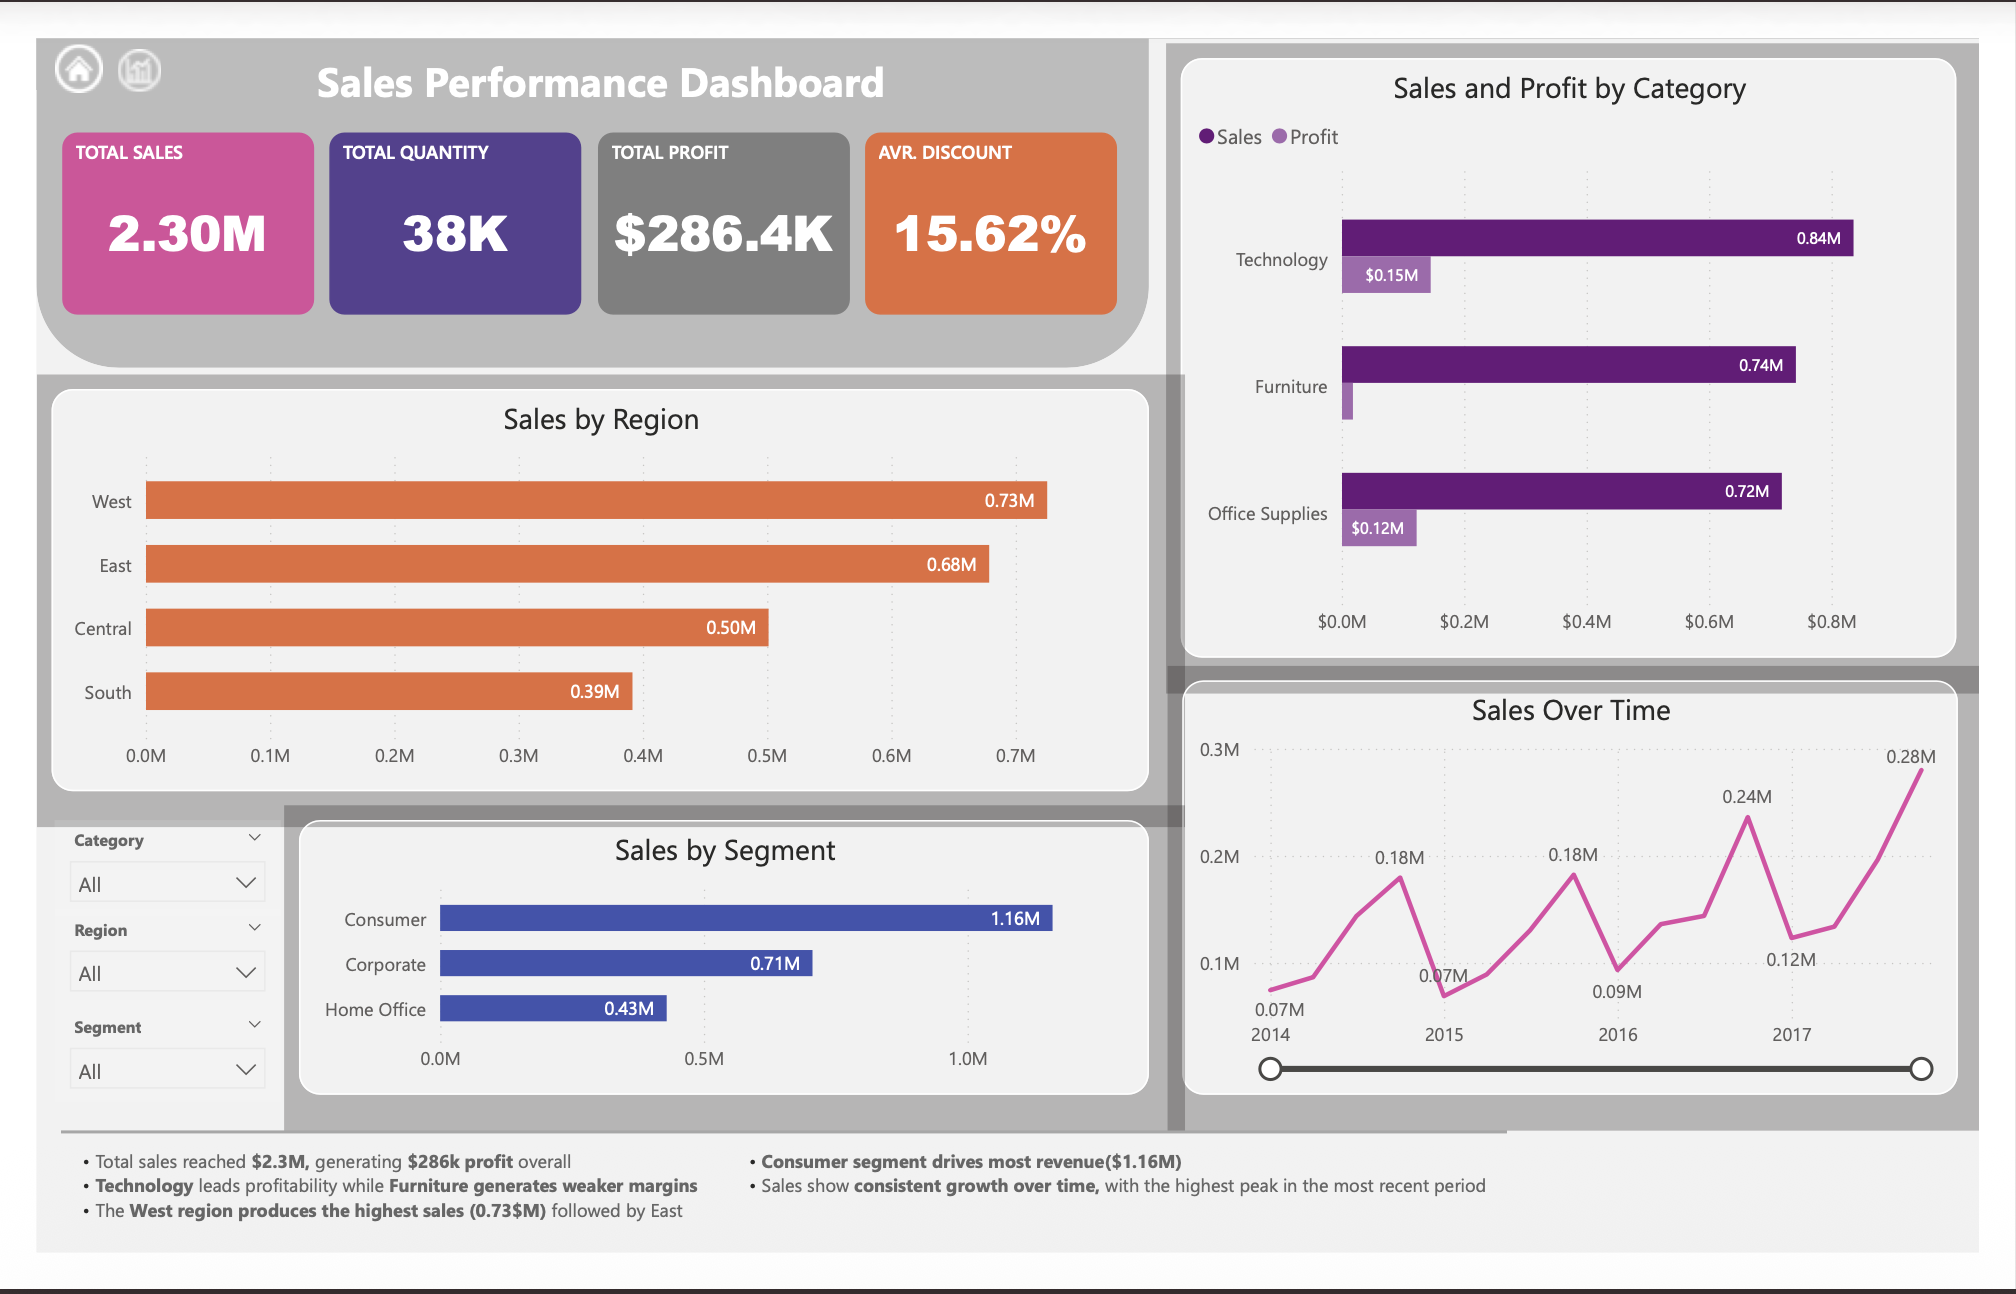

The dashboard page shown, as its layout file describes it:
{"tool":"powerbi","page":{"name":"Executive Overview","canvas":[1280,800],"ordinal":0},"visuals":[{"type":"shape","box":[0,0,733.3,216.7],"z":0},{"type":"clusteredBarChart","title":"Sales and Profit by Category","fields":{"Y":["Sum(Orders.Sales)","Sum(Orders.Profit)"],"Category":["Orders.Category"]},"box":[754.2,13.3,510.8,394.2],"z":1000},{"type":"card","title":"TOTAL SALES","fields":{"Values":["Sum(Orders.Sales)"]},"box":[16.7,61.7,165.8,120],"z":1000,"group":"g1"},{"type":"card","title":"TOTAL QUANTITY","fields":{"Values":["Sum(Orders.Quantity)"]},"box":[193.1,61.7,165.8,120],"z":2000,"group":"g1"},{"type":"clusteredBarChart","title":"Sales by Region","fields":{"Y":["Sum(Orders.Sales)"],"Category":["Orders.Region"]},"box":[10,230.8,723.3,265],"z":2000},{"type":"card","title":"TOTAL PROFIT","fields":{"Values":["Sum(Orders.Profit)"]},"box":[369.5,61.7,165.8,120],"z":3000,"group":"g1"},{"type":"lineChart","title":"Sales Over Time","fields":{"Y":["Sum(Orders.Sales)"],"Category":["Orders.Order Date.Variation.Date Hierarchy.Year","Orders.Order Date.Variation.Date Hierarchy.Quarter"]},"box":[755,423.3,510.8,272.5],"z":3000},{"type":"card","title":"AVR. DISCOUNT","fields":{"Values":["Avg(Orders.Discount)"]},"box":[545.9,61.7,165.8,120],"z":4000,"group":"g1"},{"type":"clusteredBarChart","title":"Sales by Segment","fields":{"Y":["Sum(Orders.Sales)"],"Category":["Orders.Segment"]},"box":[172.5,515,560.8,180.8],"z":4000},{"type":"slicer","fields":{"Values":["Orders.Category"]},"box":[12.2,515,149.2,63.3],"z":5000},{"type":"slicer","fields":{"Values":["Orders.Region"]},"box":[12.2,574.2,149.2,63.3],"z":6000},{"type":"slicer","fields":{"Values":["Orders.Segment"]},"box":[12.2,637.5,149.2,63.3],"z":7000},{"type":"group","id":"g1","title":"Group 1","box":[16.7,61.7,695,120],"z":8000},{"type":"actionButton","box":[8.3,0,41.7,40],"z":9000},{"type":"actionButton","box":[50,3.2,39.9,35.7],"z":10000},{"type":"textbox","box":[100,3.6,544.5,55.5],"z":11000},{"type":"textbox","box":[16.4,726.4,433.6,73.6],"z":12000},{"type":"textbox","box":[454.5,726.4,514.5,73.6],"z":12001},{"type":"shape","box":[16.4,708.2,952.7,24.5],"z":12002}]}

Visuals, with their boxes in screenshot pixels (x1, y1, x2, y2), scaled from the page's 1280x800 canvas onto the 2016x1294 screenshot:
shape: l=0, t=0, r=1155, b=351
"Sales and Profit by Category" clusteredBarChart: l=1188, t=22, r=1992, b=659
"TOTAL SALES" card: l=26, t=100, r=287, b=294
"TOTAL QUANTITY" card: l=304, t=100, r=565, b=294
"Sales by Region" clusteredBarChart: l=16, t=373, r=1155, b=802
"TOTAL PROFIT" card: l=582, t=100, r=843, b=294
"Sales Over Time" lineChart: l=1189, t=685, r=1994, b=1125
"AVR. DISCOUNT" card: l=860, t=100, r=1121, b=294
"Sales by Segment" clusteredBarChart: l=272, t=833, r=1155, b=1125
slicer - Orders.Category: l=19, t=833, r=254, b=935
slicer - Orders.Region: l=19, t=929, r=254, b=1031
slicer - Orders.Segment: l=19, t=1031, r=254, b=1134
"Group 1" group: l=26, t=100, r=1121, b=294
actionButton: l=13, t=0, r=79, b=65
actionButton: l=79, t=5, r=142, b=63
textbox: l=158, t=6, r=1015, b=96
textbox: l=26, t=1175, r=709, b=1293
textbox: l=716, t=1175, r=1526, b=1293
shape: l=26, t=1146, r=1526, b=1185
